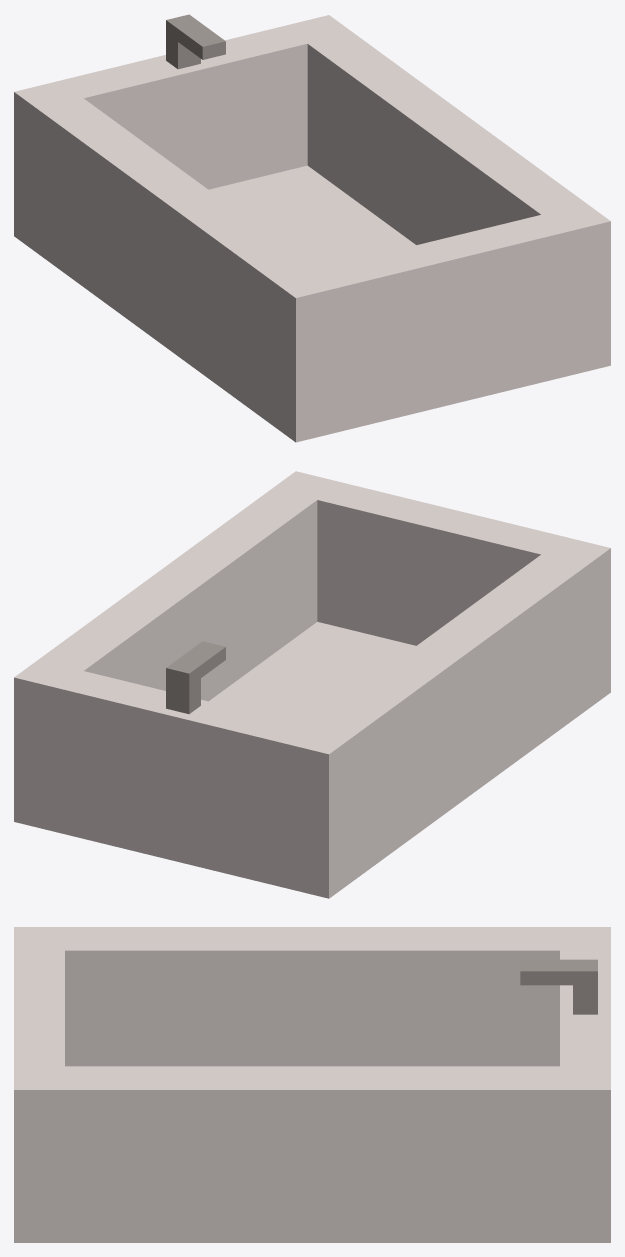
File: bath_tub.fbx
The picture shows the model from 3 angles, top to bottom: view 1: azimuth 30°, elevation 25°; view 2: azimuth 150°, elevation 25°; view 3: azimuth 270°, elevation 25°; orthographic projection. The views are drawn at different scales.
Visible parts, largest first — view 1: bath tub; view 2: bath tub; view 3: bath tub.
Part boxes in pixels (<box>): bath tub: <box>14,14,610,442</box>; bath tub: <box>14,471,610,898</box>; bath tub: <box>14,927,610,1242</box>.
Size of the model in its own units: 237 by 153 by 85.86.
